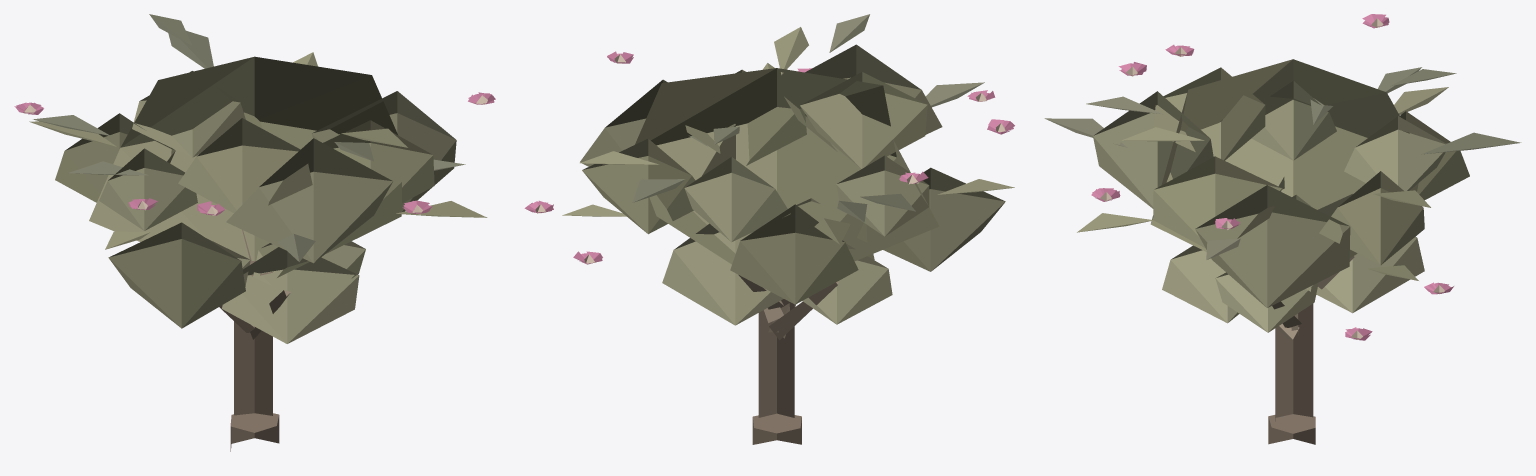
The model's file is shu.wujiaofeng@flowering__winter.glb.
3 views of the same model, side by side, from view 1: azimuth 30°, elevation 25°; view 2: azimuth 150°, elevation 25°; view 3: azimuth 270°, elevation 25° (orthographic). The views are drawn at different scales.
Visible parts, largest first — view 1: shu.wujiaofeng@flowering__winter; view 2: shu.wujiaofeng@flowering__winter; view 3: shu.wujiaofeng@flowering__winter.
Boxes of the visible parts, x1=… form: shu.wujiaofeng@flowering__winter: x1=14, y1=14, x2=495, y2=451; shu.wujiaofeng@flowering__winter: x1=524, y1=14, x2=1014, y2=444; shu.wujiaofeng@flowering__winter: x1=1044, y1=14, x2=1521, y2=444.
Size of the model in its own units: 12.02 by 10.46 by 12.31.
